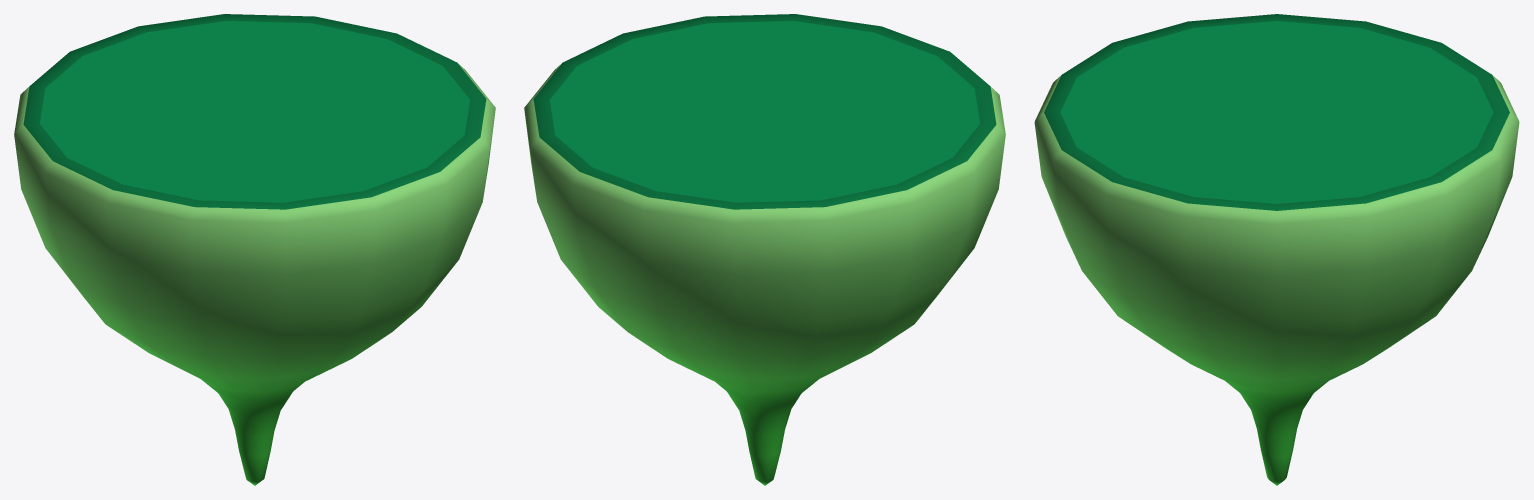
Rendered from Radish_half_02.fbx.
3 views of the same model, side by side, from view 1: azimuth 30°, elevation 25°; view 2: azimuth 150°, elevation 25°; view 3: azimuth 270°, elevation 25° (orthographic).
Parts seen in each view (by area): view 1: Radish_half_02; view 2: Radish_half_02; view 3: Radish_half_02.
Boxes of the visible parts, <box> form: Radish_half_02: <box>14,14,495,485</box>; Radish_half_02: <box>524,14,1005,485</box>; Radish_half_02: <box>1034,14,1519,485</box>.
Size of the model in its own units: 32.44 by 32.44 by 27.56.
